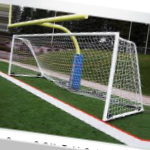goals: (8, 30, 144, 121)
